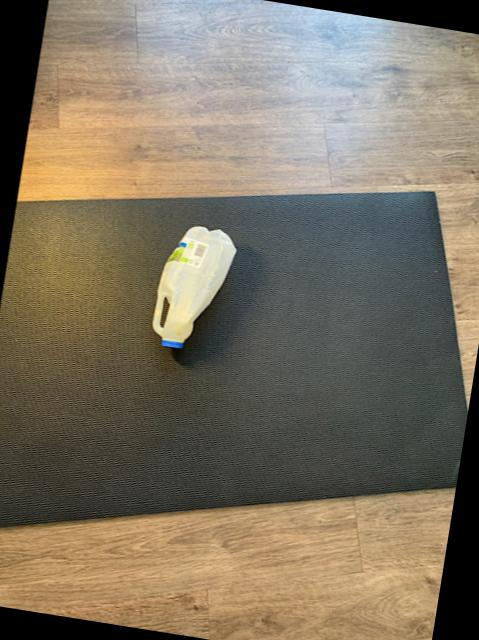plastic: (154, 225, 237, 345)
